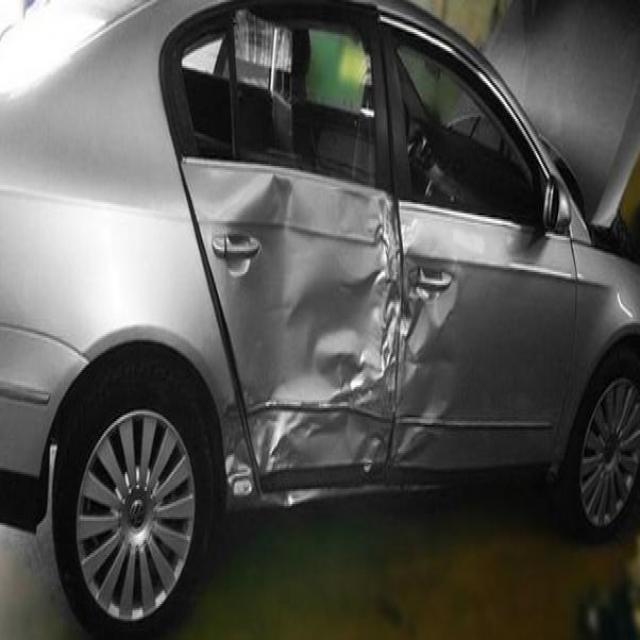dent: (186, 217, 482, 534)
